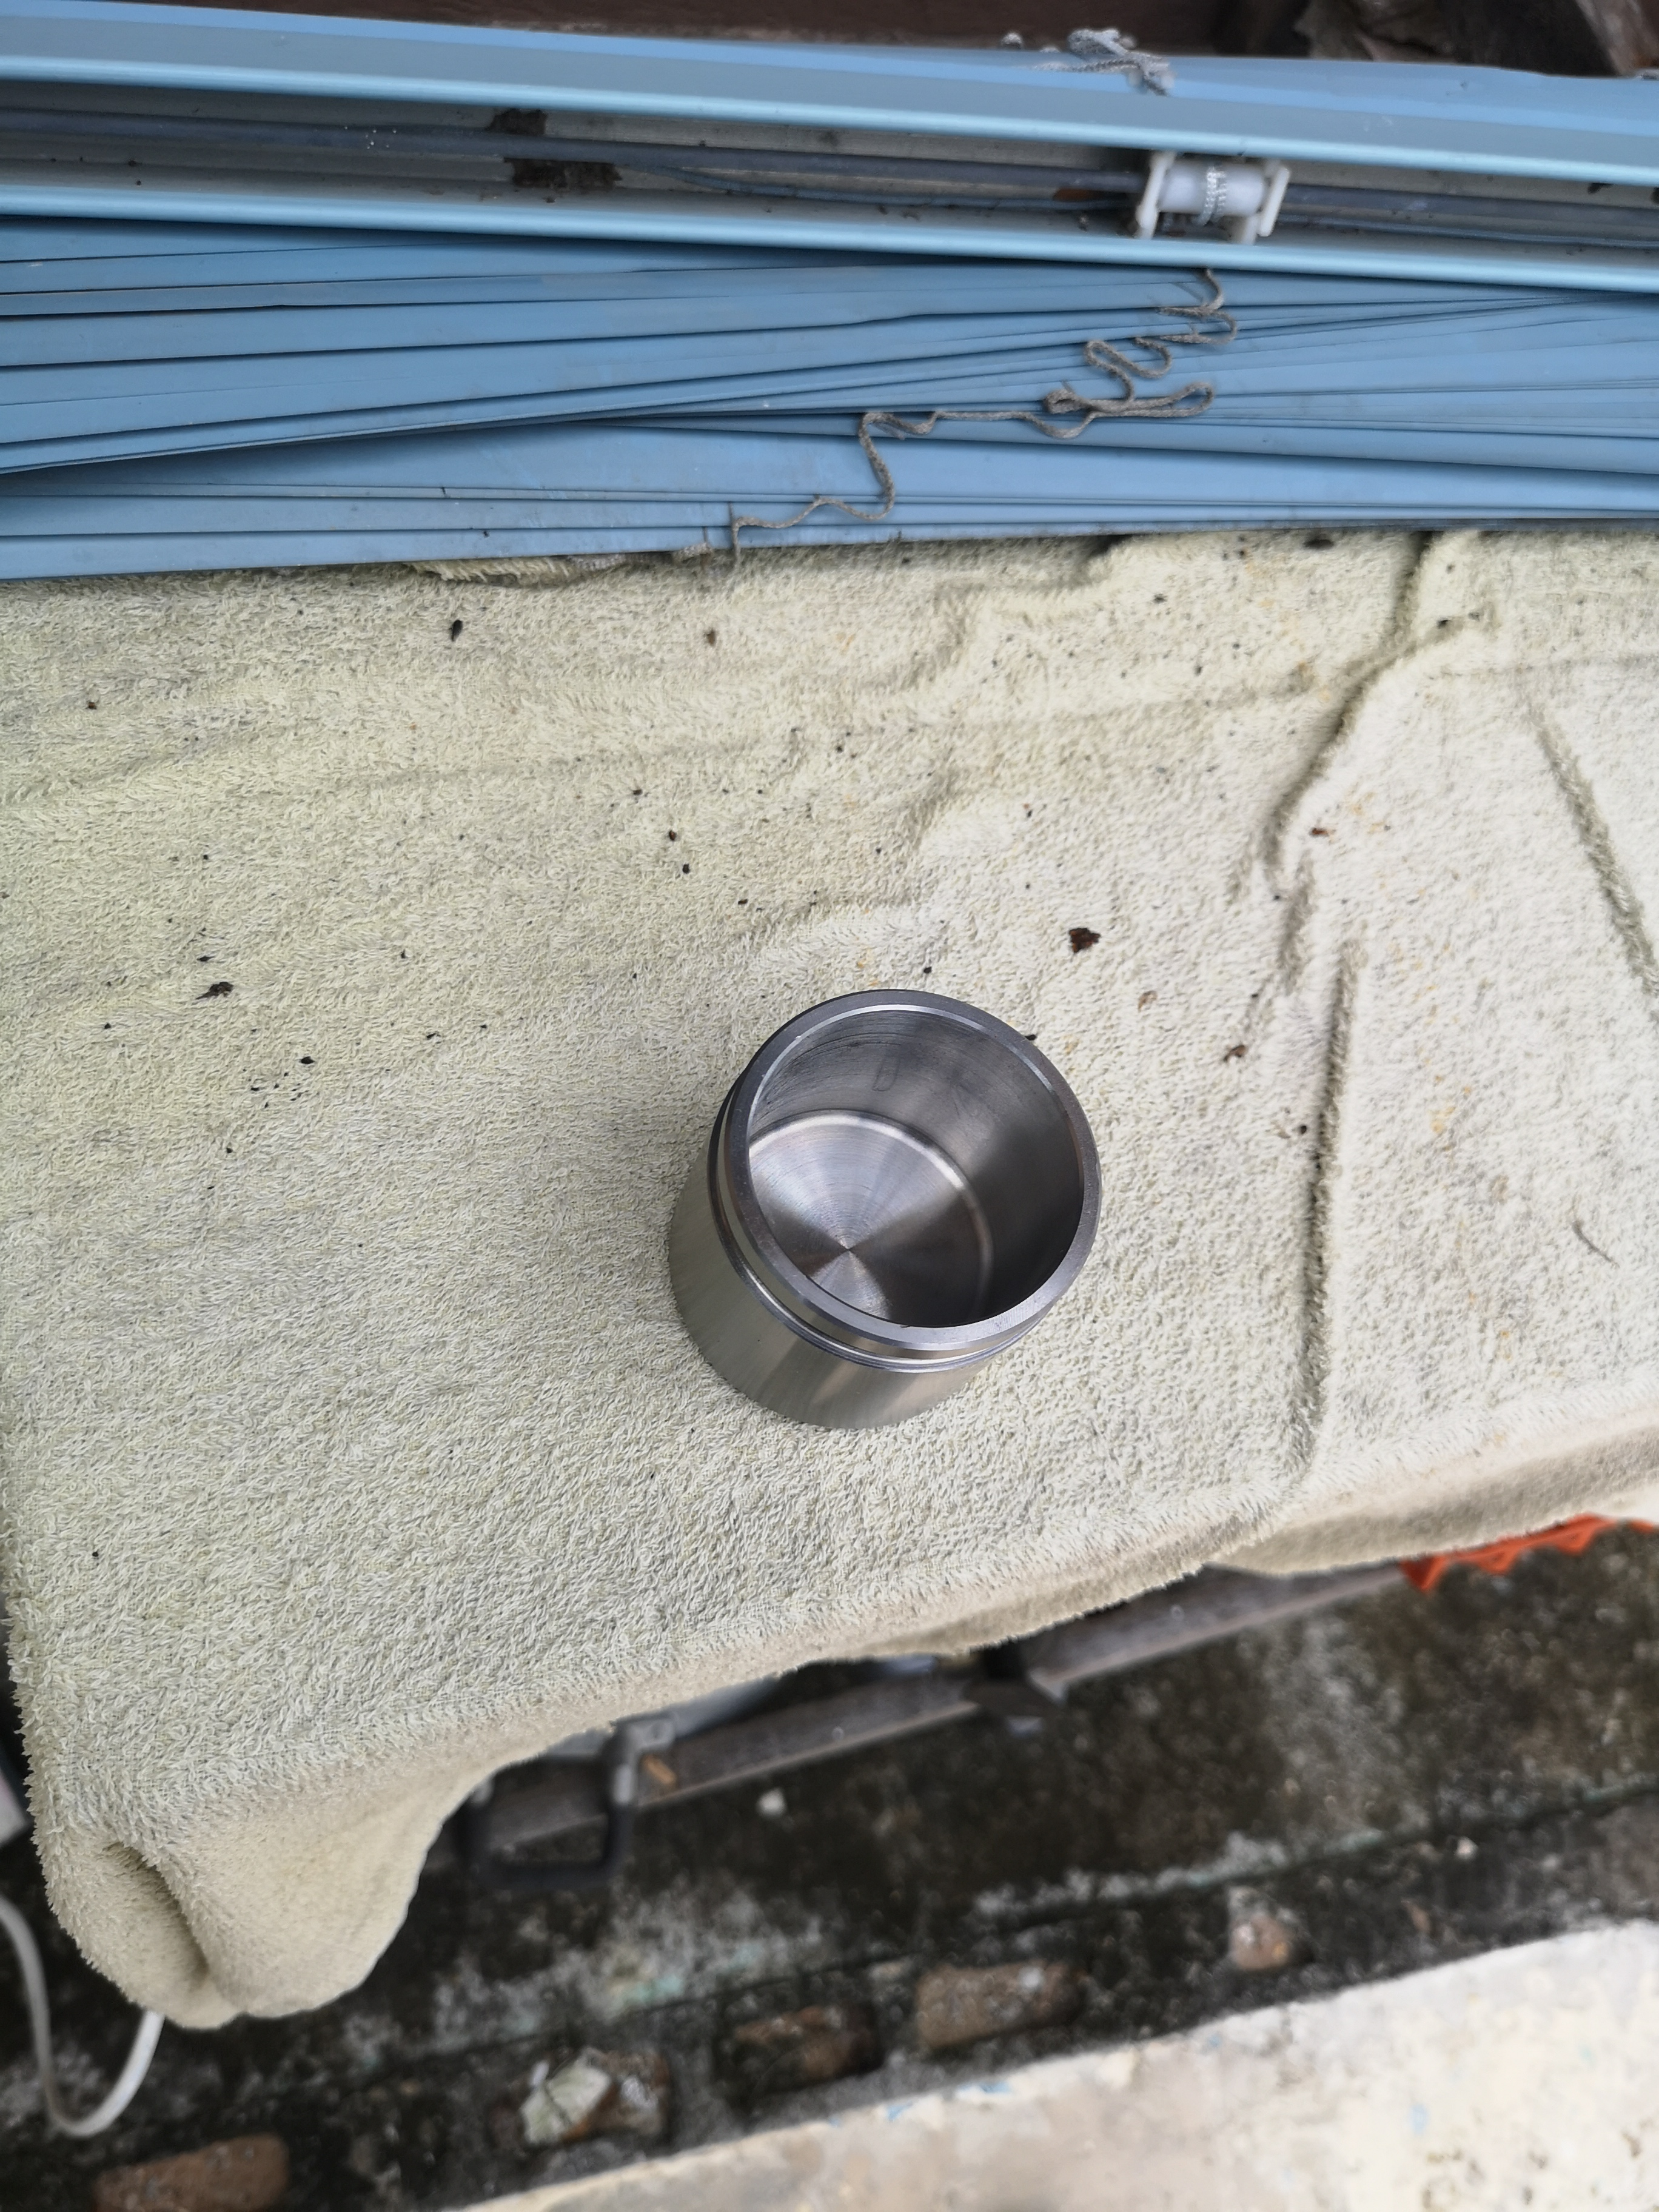ลูกสูบดิสเบรค: (671, 982, 1103, 1414)
